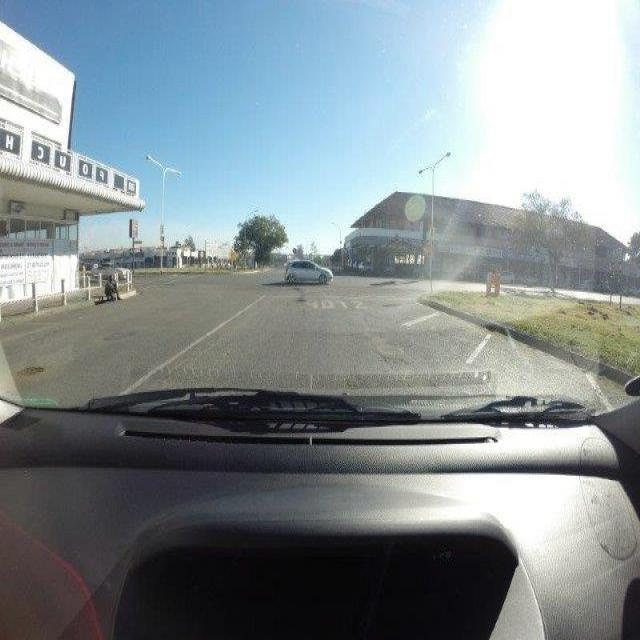jalan retak: (376, 344, 411, 372)
lubang: (94, 318, 142, 350), (12, 362, 57, 387)
